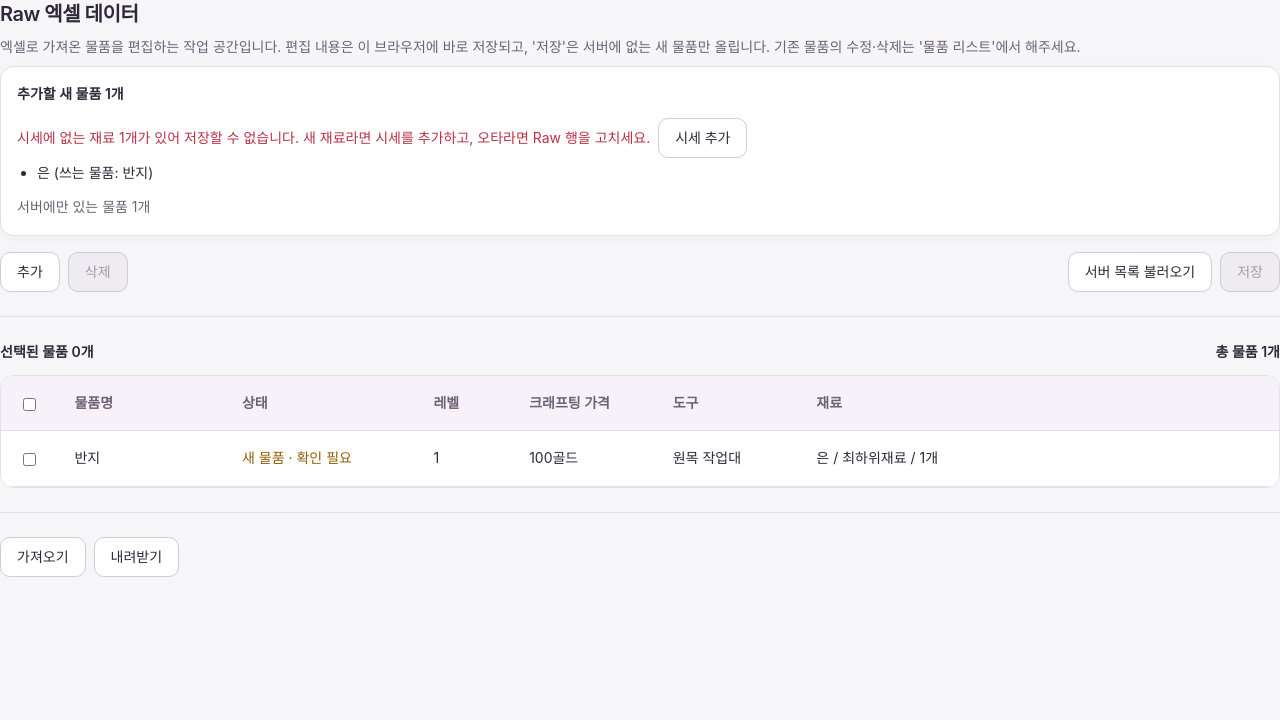
Scenario: ManageHomePage › 시세 없는 재료가 있으면 저장할 수 없고, 시세를 추가하면 다시 계산해 저장할 수 있다
The image size is (1280, 720).
Check: the list item "은 (쓰는 물품: 반지)" is shown, box [37,164,153,181]
Check: the button "저장" is disabled, box [1220,252,1279,292]
Click the button "시세 추가" at (703, 138), box [658,118,748,158]
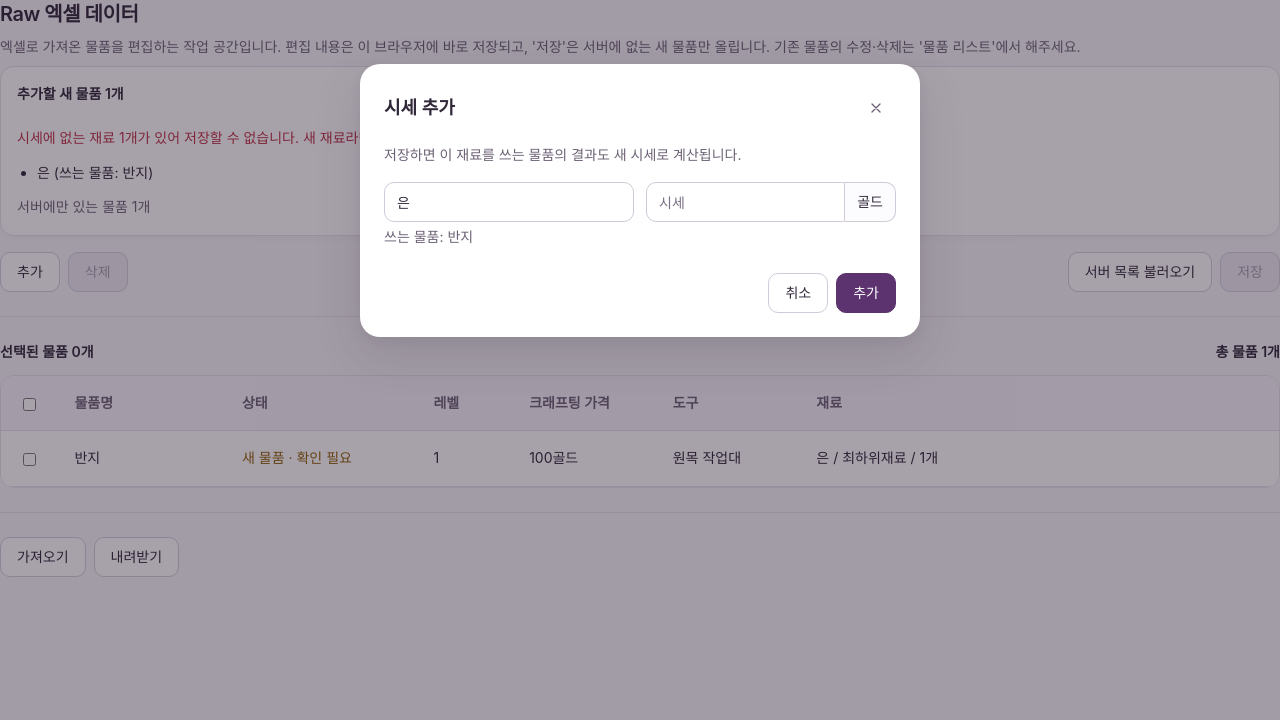
Check: the dialog "시세 추가" shows "쓰는 물품: 반지", box [360,64,920,337]
Type "300" into the number field labelled "은 시세" at (746, 202), box [659,183,832,221]
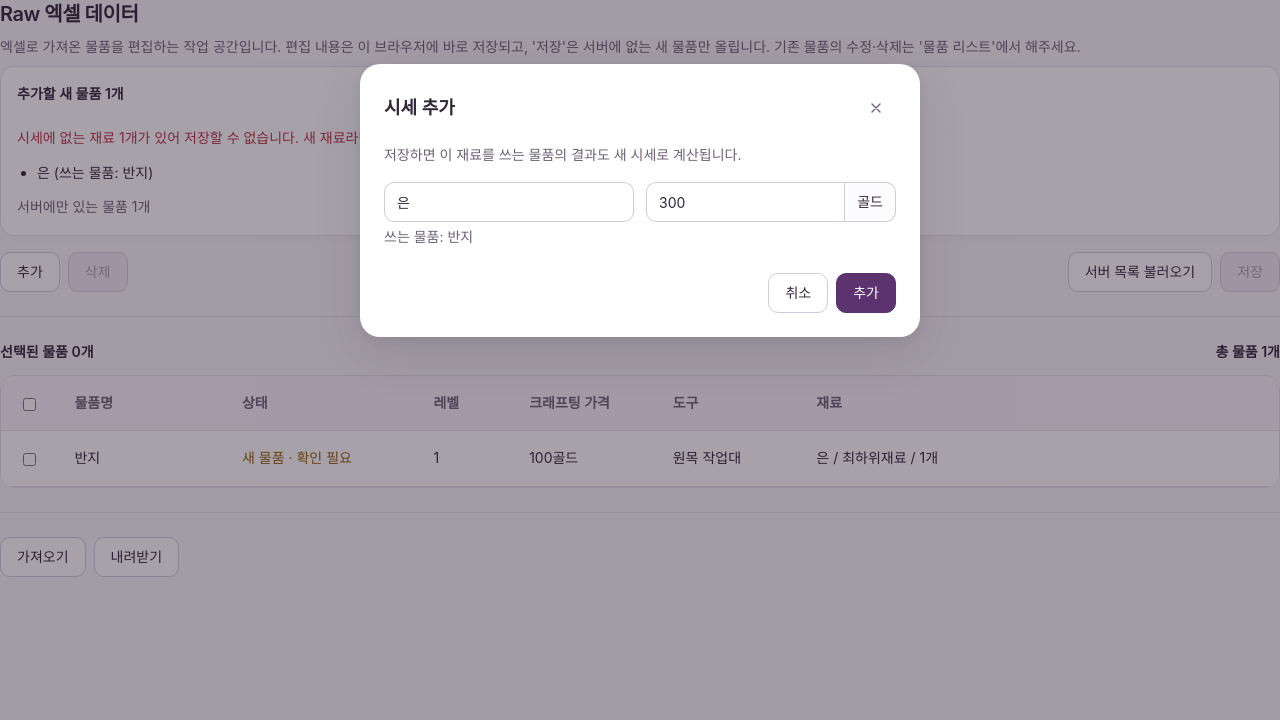
Click the button "추가" at (866, 293), box [836,273,896,313]
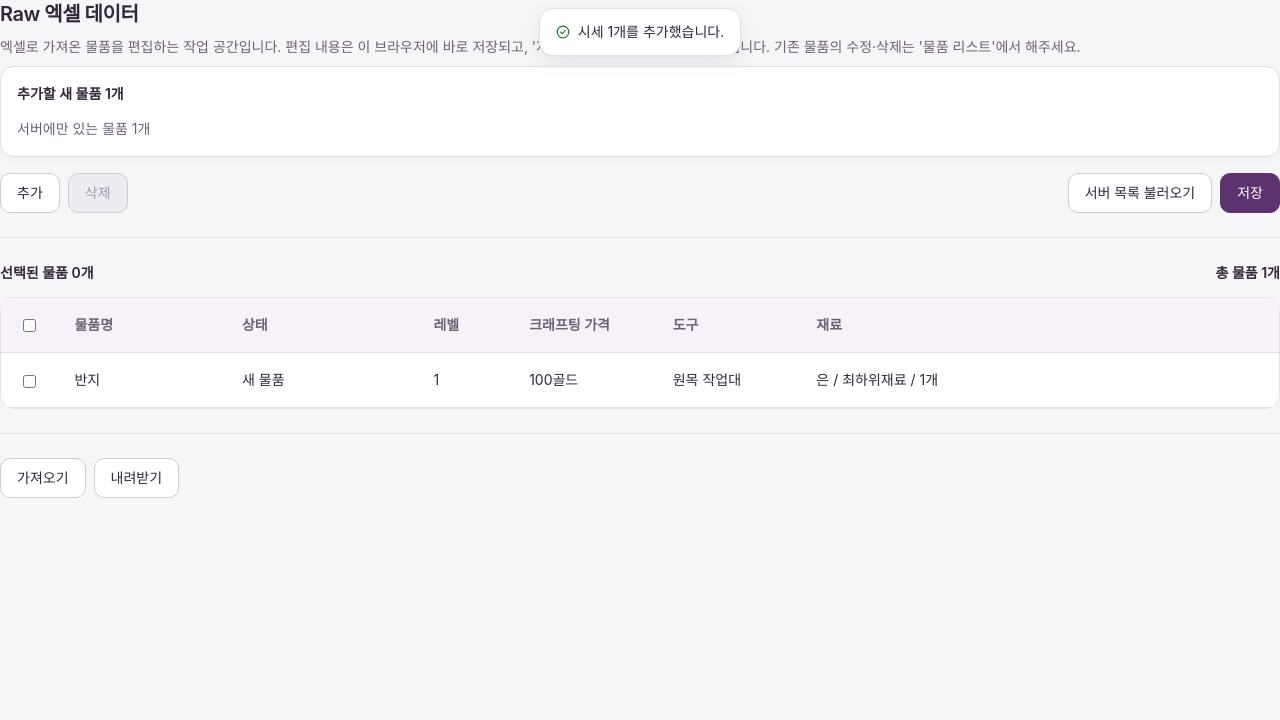
Check: the text "시세 1개를 추가했습니다." is shown, box [578,21,724,43]
Check: the button "저장" is enabled, box [1220,173,1279,213]
Check: the list item "은 (쓰는 물품: 반지)" is gone
